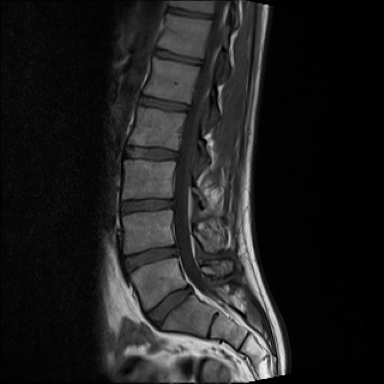Degenerative Disc Disease (DDD): (149, 43, 207, 70), (158, 6, 220, 26)
Lumbar Disc Bulge (LDB): (118, 238, 186, 281)
Normal IVD: (137, 279, 193, 333), (113, 188, 177, 220), (116, 139, 182, 166), (133, 90, 193, 116)
